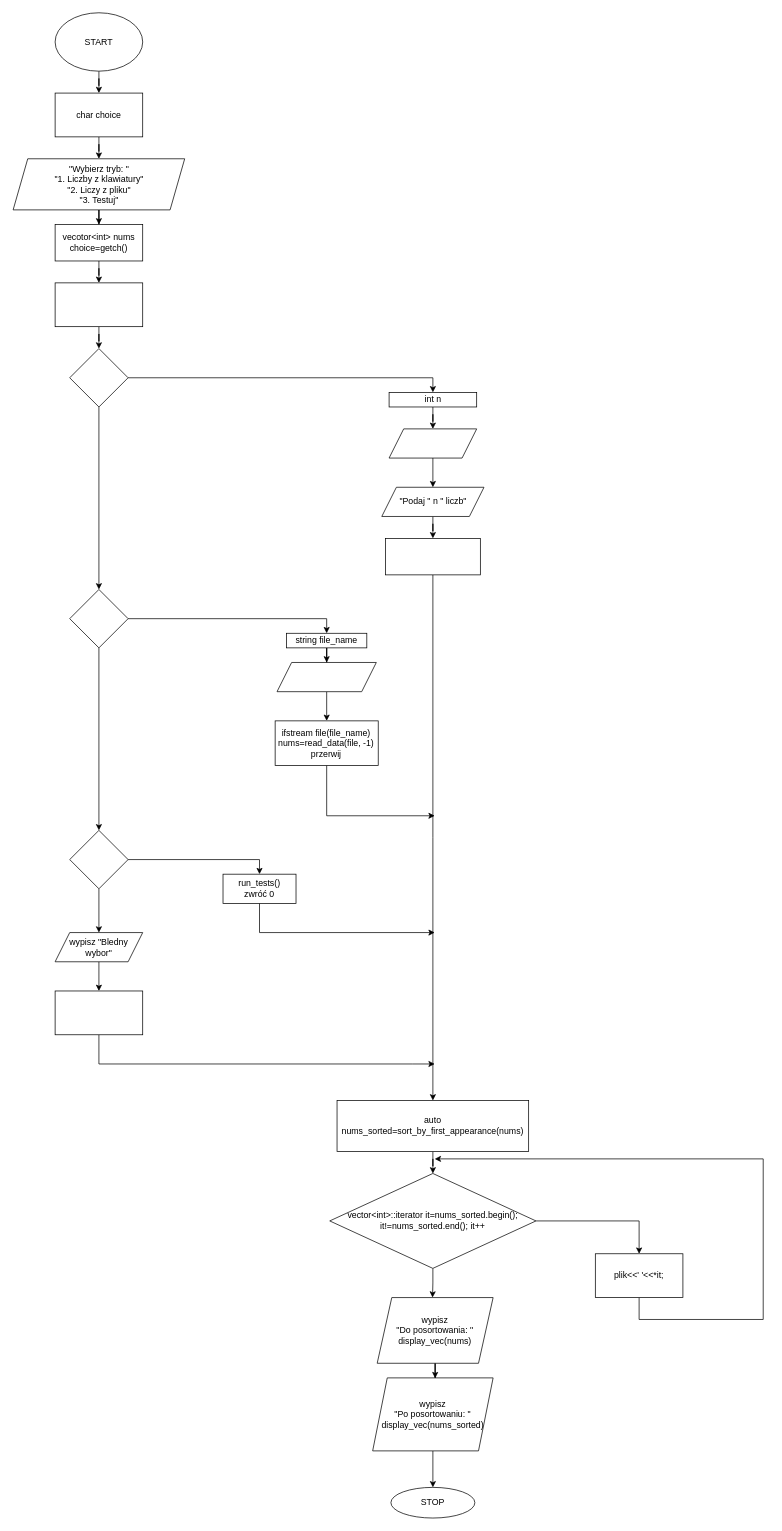
Some shapes in this 782 by 1531 pixel diagram are drawn without their labels. The shapes that lost their labels are listed below. From the top down, each one's box as (x1, y1, x2, y2) in pixels, then its label:
(54, 282, 143, 327): switch(choice)
(69, 348, 128, 407): case '1'
(388, 428, 477, 458): "Podaj ile liczb: " wprowadź n
(385, 538, 480, 575): nums=read_data(cin,n) przerwij
(69, 589, 128, 648): case '2'
(276, 662, 376, 692): "Podaj nazwe pliku" wprowadź file_name
(69, 830, 128, 889): case '3'
(54, 990, 143, 1035): zwróć 0
